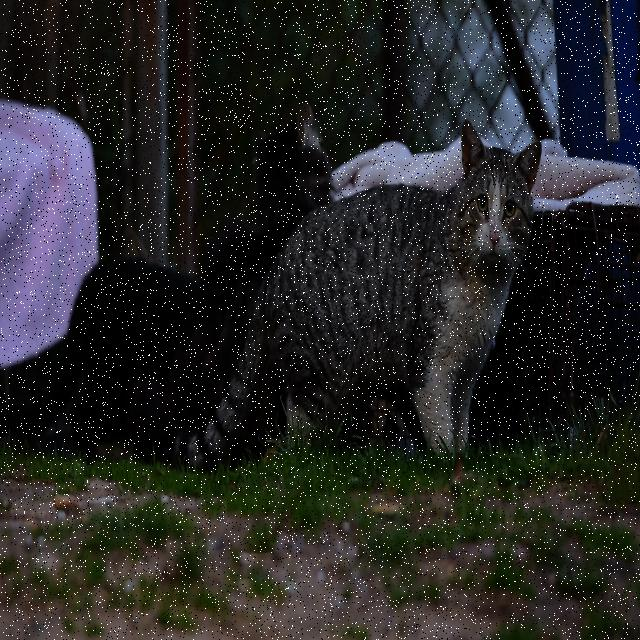cat: (175, 122, 541, 467), (168, 102, 331, 431), (0, 260, 198, 460), (231, 373, 281, 462)
